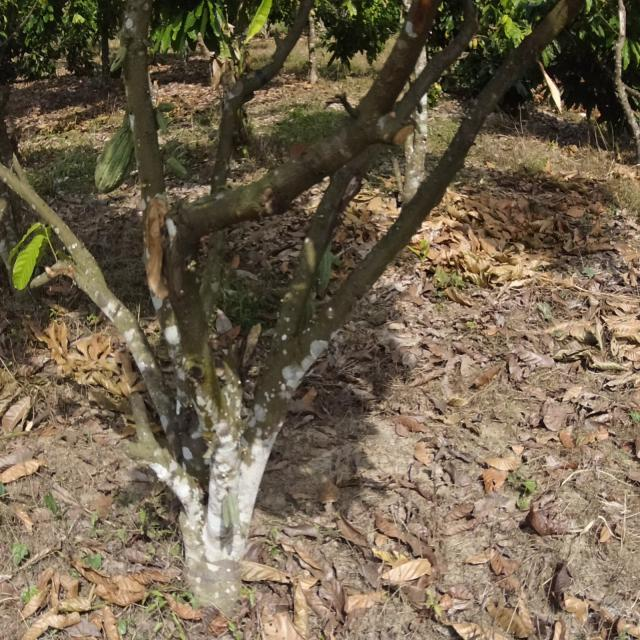Immature: (152, 98, 185, 132), (106, 45, 134, 79), (164, 151, 189, 187)
Mature_Unripe: (89, 121, 136, 199)
